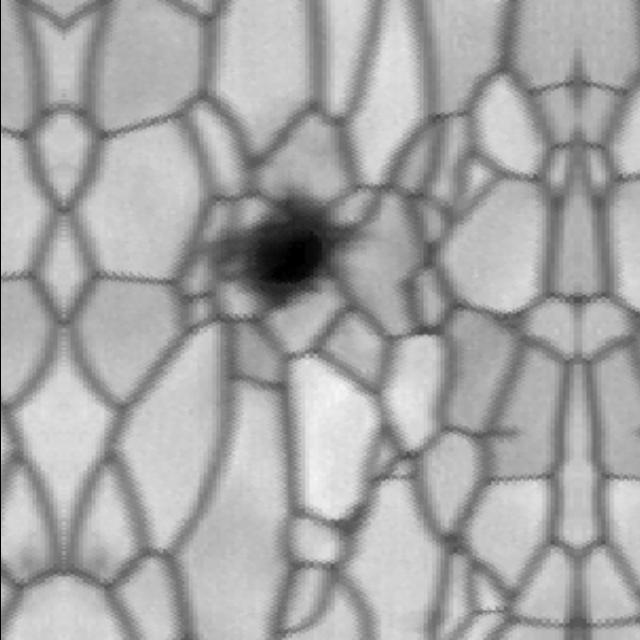good_void: (176, 152, 384, 353)
